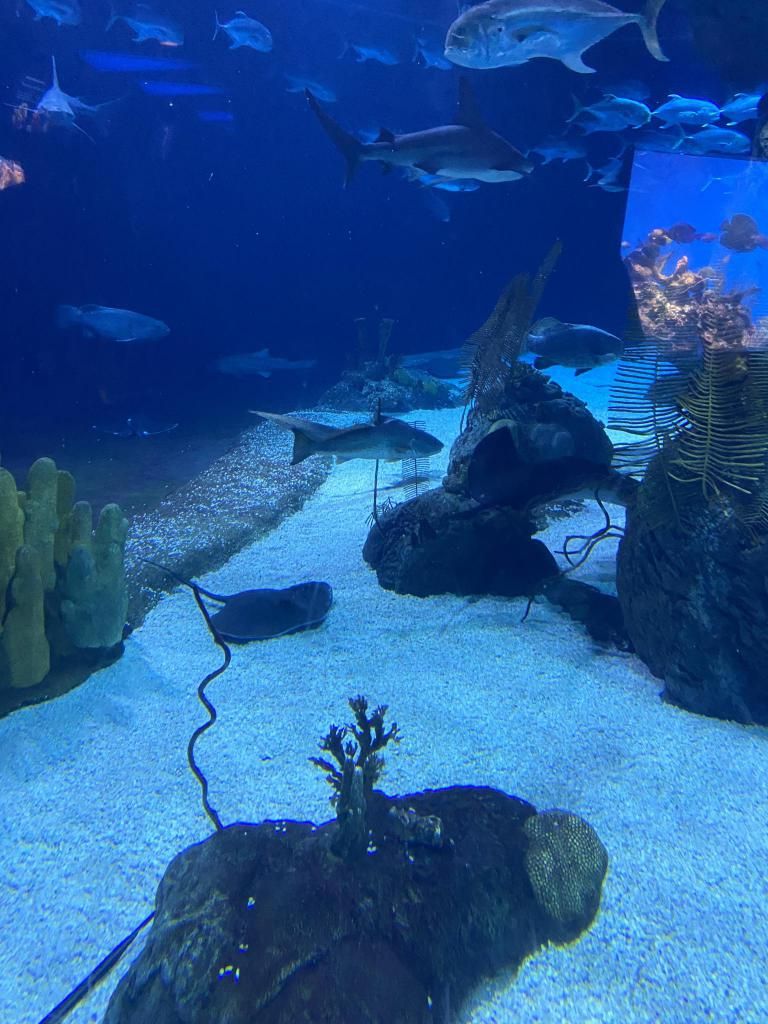Fish: (289, 421, 445, 468)
Shark: (304, 72, 536, 189)
Stringray: (136, 556, 333, 640)
